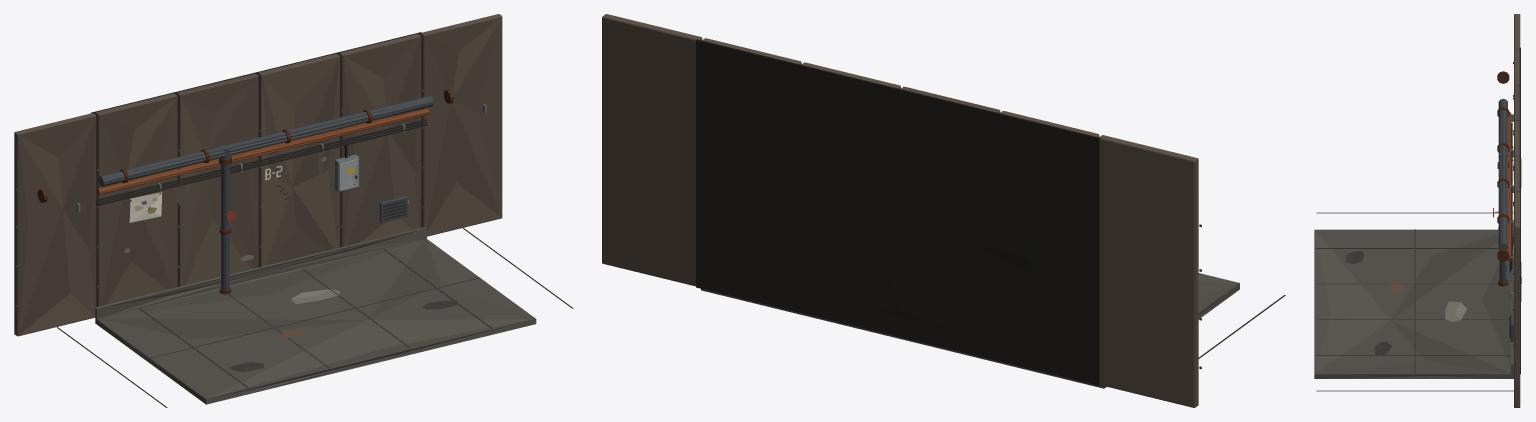
The model's file is shelter_living_concrete_normal_mid.glb.
3 renders of one model, left to right at view 1: azimuth 30°, elevation 25°; view 2: azimuth 150°, elevation 25°; view 3: azimuth 270°, elevation 25°, orthographic. The views are drawn at different scales.
Parts seen in each view (by area): view 1: shelter_living_concrete_normal_mid; view 2: shelter_living_concrete_normal_mid; view 3: shelter_living_concrete_normal_mid.
Boxes of the visible parts, x1=… form: shelter_living_concrete_normal_mid: x1=14, y1=14, x2=573, y2=407; shelter_living_concrete_normal_mid: x1=602, y1=14, x2=1285, y2=407; shelter_living_concrete_normal_mid: x1=1314, y1=14, x2=1521, y2=407.
Size of the model in its own units: 7.68 by 3.13 by 3.15.
Materials: 1 (1 with a texture image).
